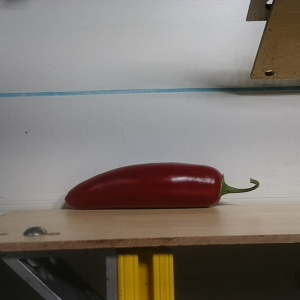Cut Point: (205, 165, 232, 207)
